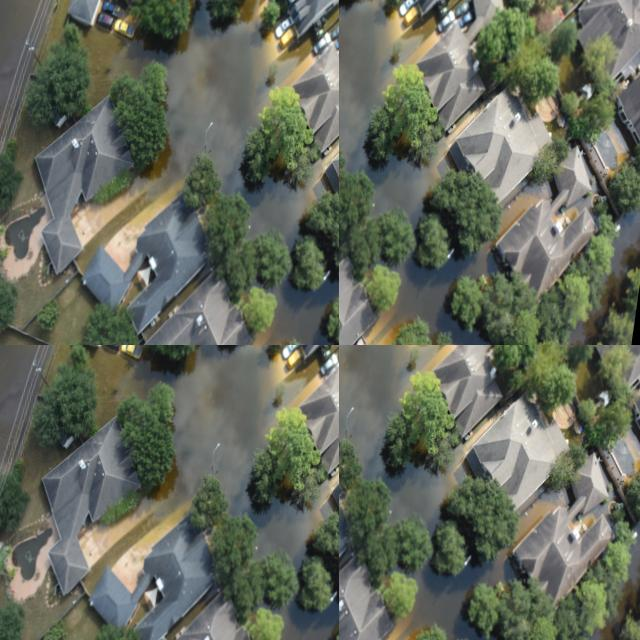fire: (0, 0, 291, 345), (162, 345, 331, 640), (339, 345, 483, 531), (399, 550, 513, 640), (339, 345, 414, 468), (370, 461, 457, 533), (602, 525, 640, 640)
